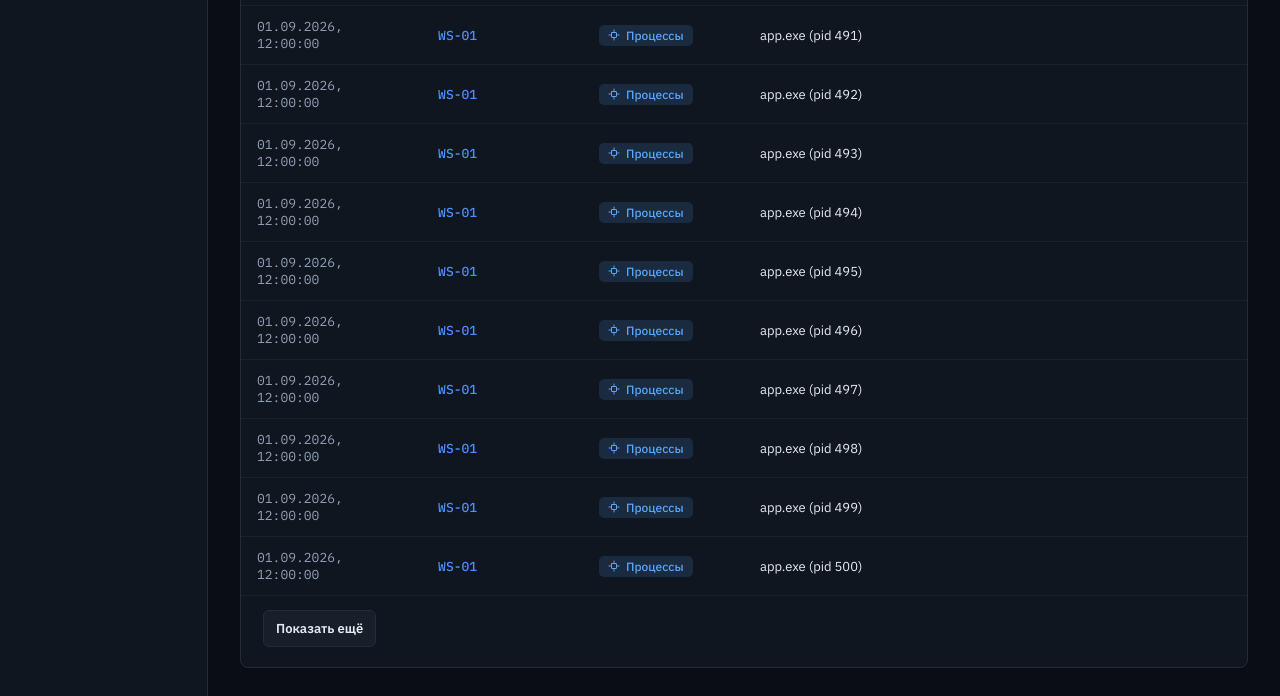
Scenario: ReportsPage › offers the next page when a page comes back full
(page scrolled)
Click the button "Показать ещё": (320, 628) [263,610,376,647]
(page scrolled)
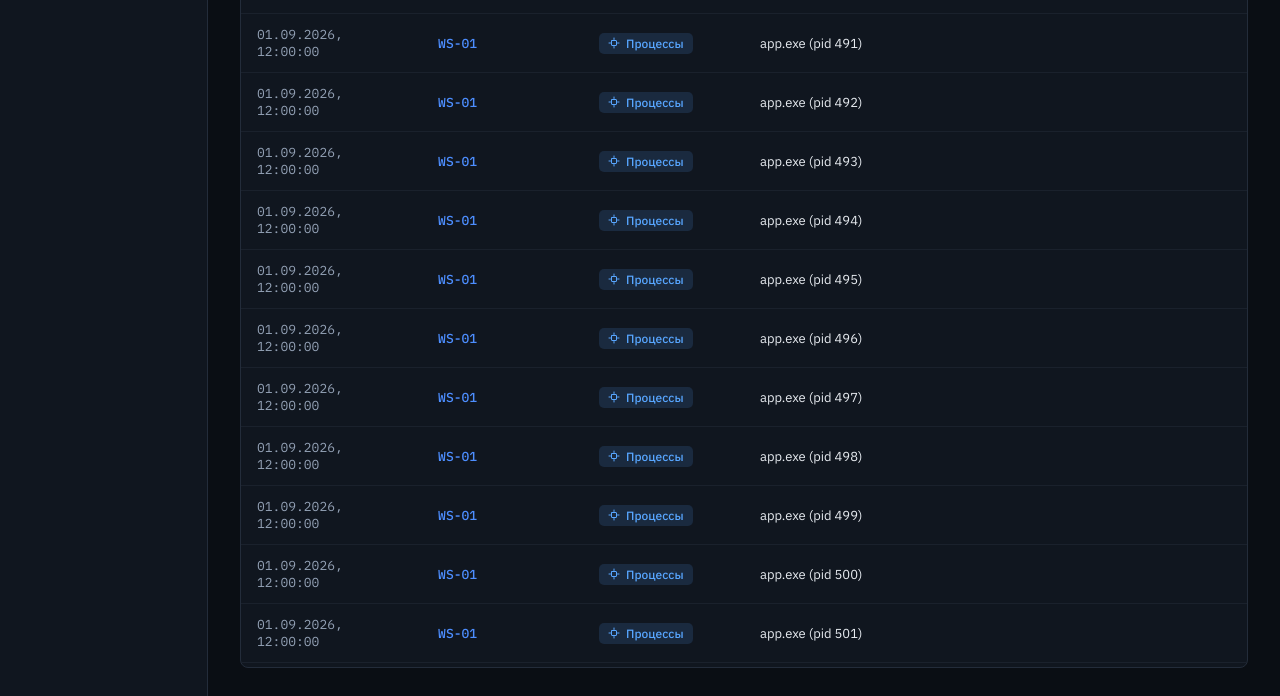
expect the button "Показать ещё" is gone: met
